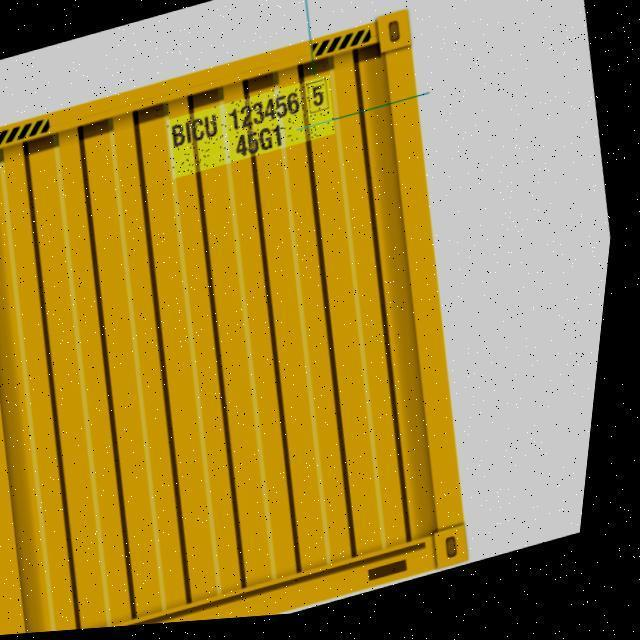container_number_h: (164, 79, 343, 182)
